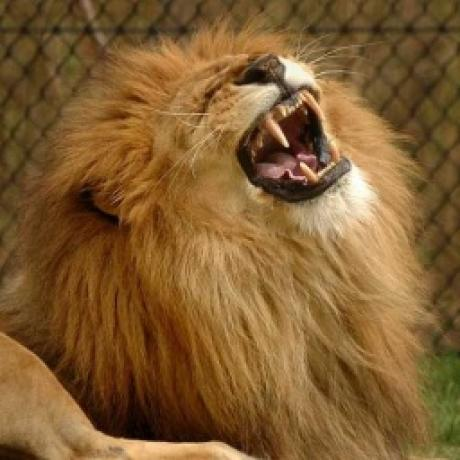Lion: (0, 18, 435, 460)
